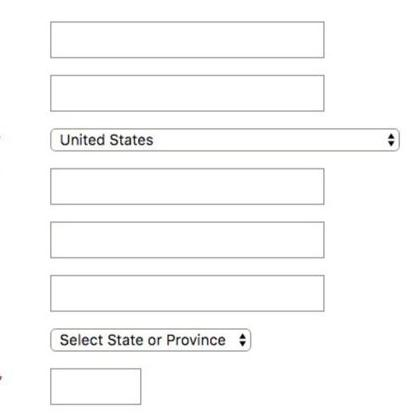field: (47, 73, 326, 115), (48, 20, 326, 61), (46, 167, 324, 208), (47, 274, 326, 314), (48, 221, 324, 260), (47, 367, 142, 407)
